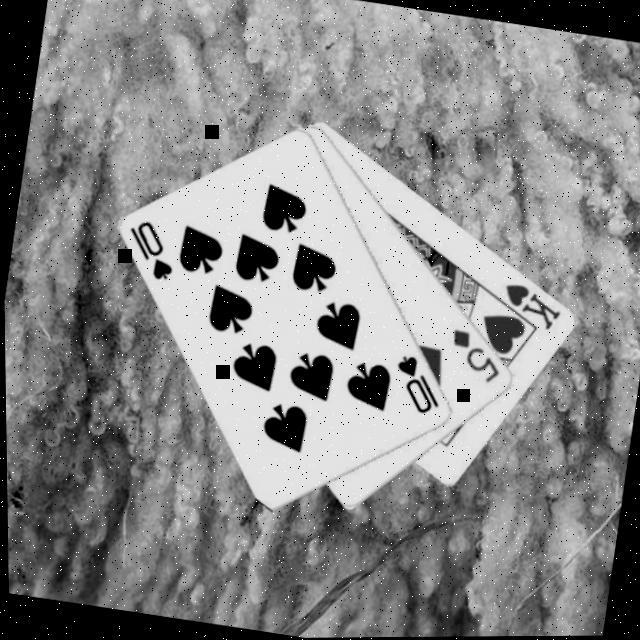10S: (117, 212, 181, 284), (384, 348, 448, 418)
5D: (440, 323, 507, 387)
KH: (493, 276, 567, 334)
